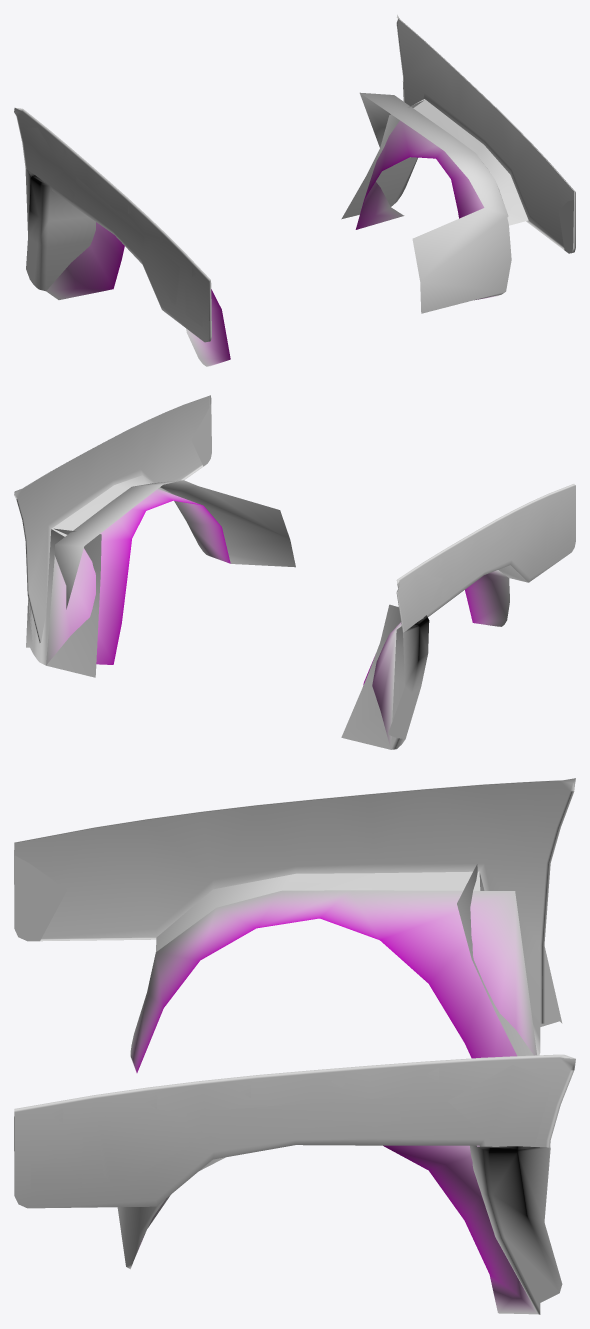
The model's file is Car_Buick_GrandNational_1987_FendersChassisF_SetB.fbx.
3 views of the same model, one above another, from view 1: azimuth 30°, elevation 25°; view 2: azimuth 150°, elevation 25°; view 3: azimuth 270°, elevation 25° (orthographic). The views are drawn at different scales.
Visible parts, largest first — view 1: FendersChassisF 6; view 2: FendersChassisF 6; view 3: FendersChassisF 6.
Boxes of the visible parts, bbox=[...] form: FendersChassisF 6: bbox=[14, 14, 575, 366]; FendersChassisF 6: bbox=[14, 395, 575, 749]; FendersChassisF 6: bbox=[14, 778, 575, 1314].
Bounding box in the file's own units: 1.63 × 0.7218 × 1.36.
